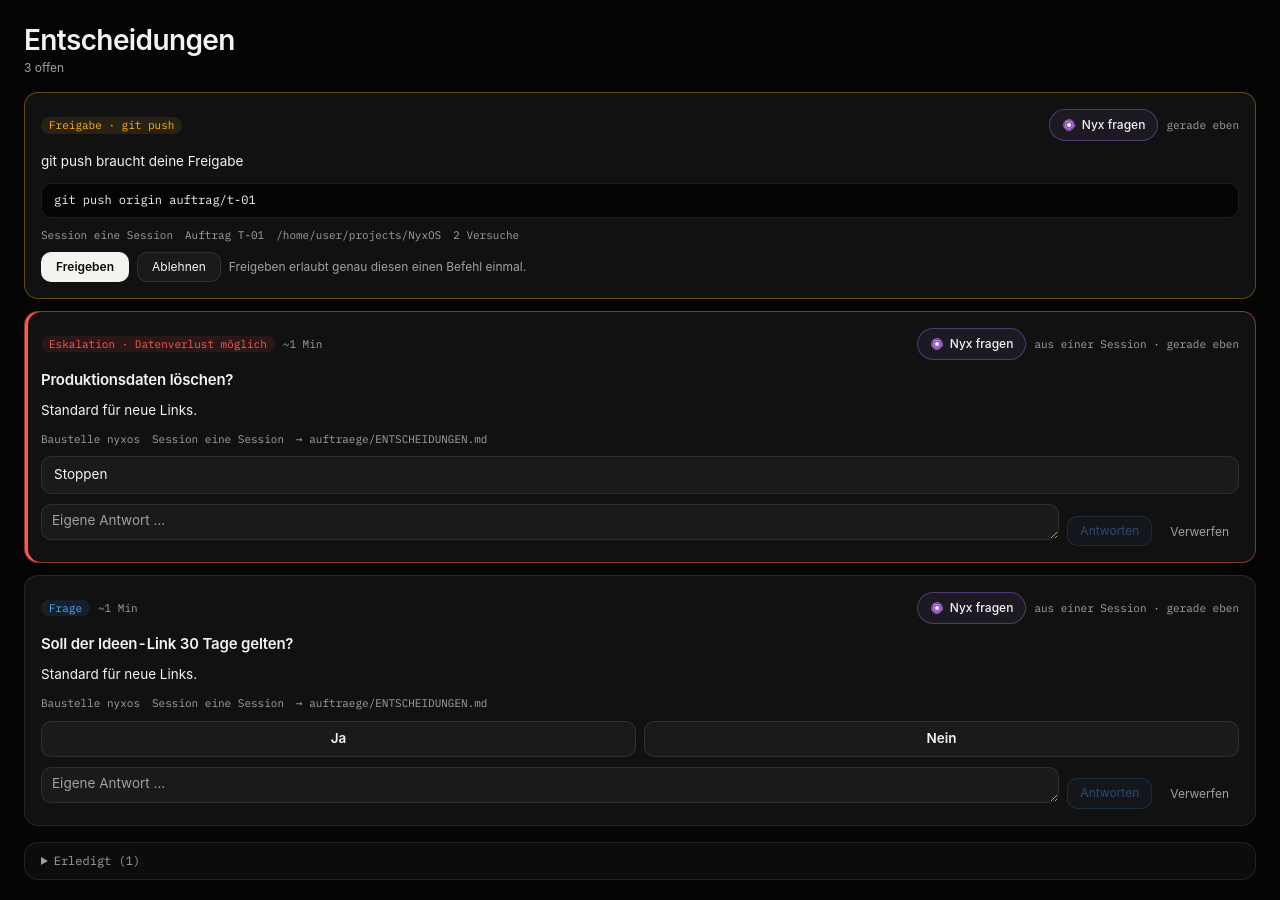
Test: Entscheidungs-Inbox › Ja/Nein ruft answer und der Toast nennt die Zustellung
Click the button "Ja": click(338, 738) [41, 720, 636, 756]
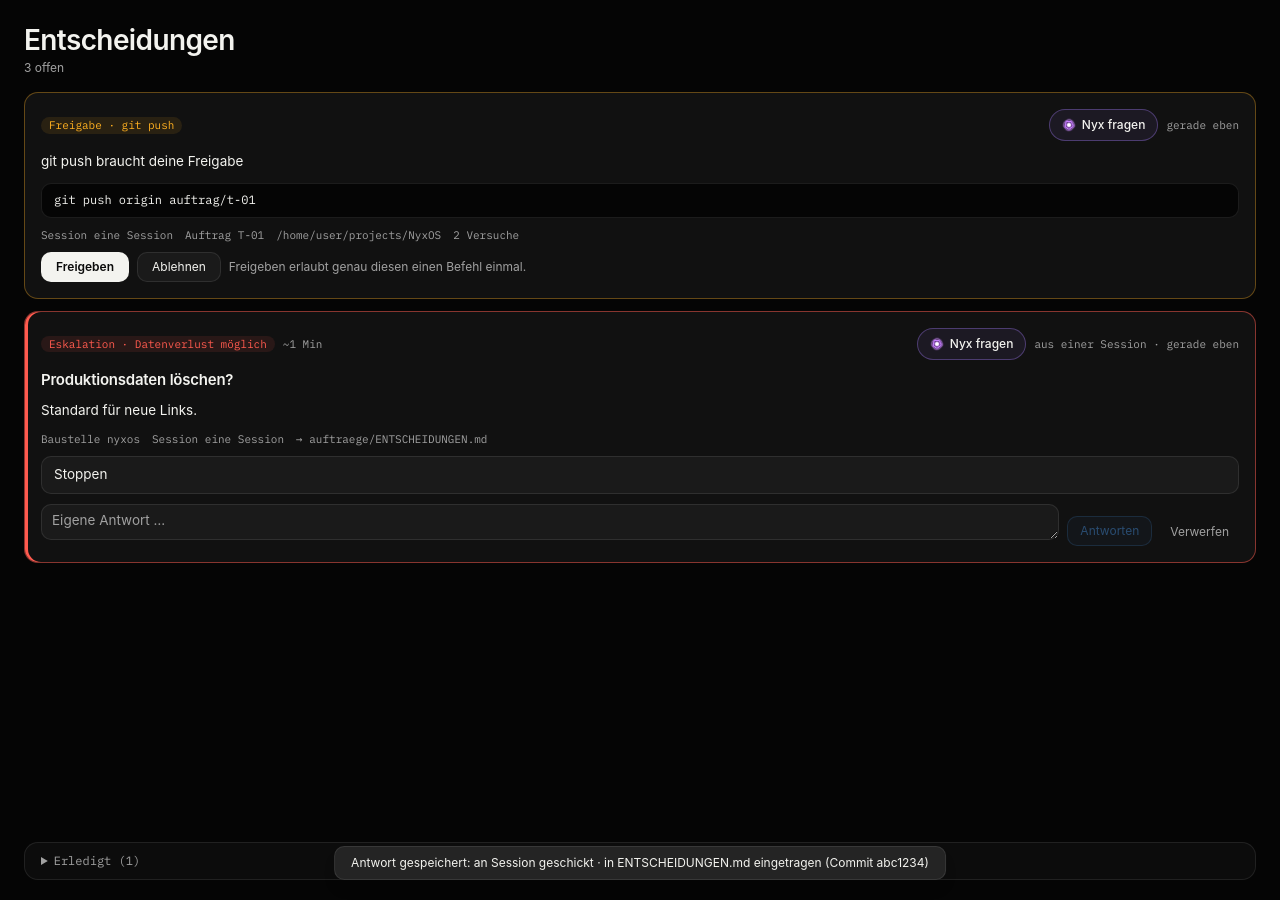
Expected: the text "in ENTSCHEIDUNGEN.md eingetragen (Commit abc1234)" is shown, [351, 855, 929, 870]
